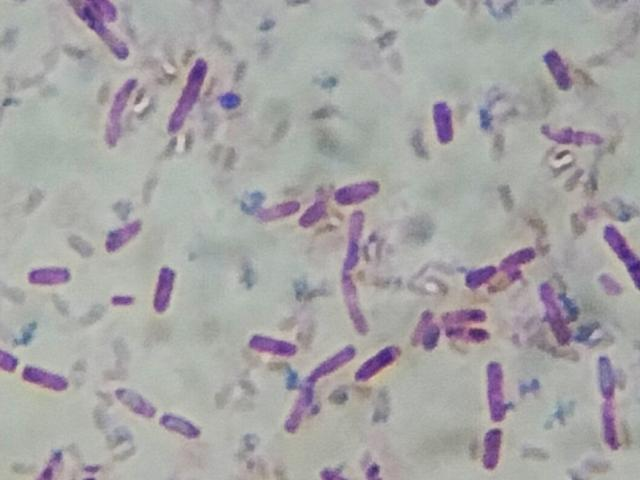E. coli: (70, 0, 139, 60), (169, 57, 211, 139), (98, 73, 140, 152), (596, 353, 626, 449), (603, 221, 640, 296), (472, 246, 537, 287), (483, 353, 516, 424), (542, 277, 575, 344), (339, 275, 374, 333), (539, 45, 574, 97), (328, 169, 379, 202), (26, 360, 70, 397), (546, 125, 604, 153), (152, 257, 182, 310), (308, 342, 352, 377), (431, 100, 465, 144), (362, 342, 401, 377), (101, 216, 135, 255), (22, 263, 70, 290), (345, 210, 366, 271), (408, 312, 442, 349), (288, 380, 313, 429), (253, 330, 293, 360), (256, 196, 301, 222), (483, 427, 509, 469), (115, 382, 147, 414), (439, 307, 492, 326), (163, 413, 199, 438), (448, 325, 495, 344), (301, 199, 329, 230), (0, 350, 15, 371)
